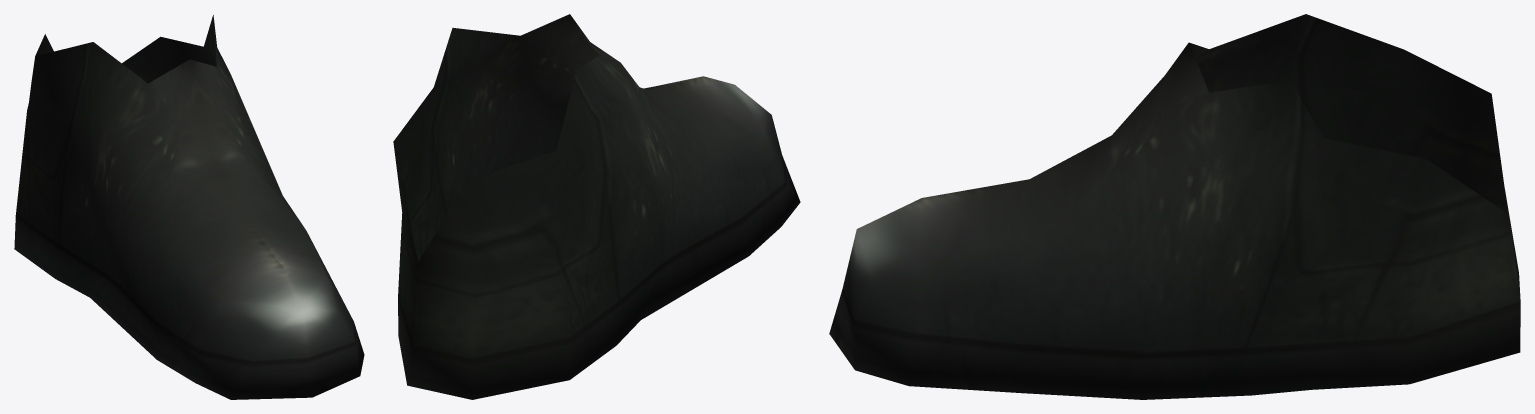
File: gordon_pie_izq.obj
3 views of the same model, side by side, from view 1: azimuth 30°, elevation 25°; view 2: azimuth 150°, elevation 25°; view 3: azimuth 270°, elevation 25° (orthographic). The views are drawn at different scales.
Visible parts, largest first — view 1: gordon_pie_izq; view 2: gordon_pie_izq; view 3: gordon_pie_izq.
Boxes of the visible parts, box(x1,y1,x2,y2) form: gordon_pie_izq: box(14, 15, 364, 399); gordon_pie_izq: box(393, 14, 800, 399); gordon_pie_izq: box(829, 14, 1520, 399).
Size of the model in its own units: 0.0941 by 0.116 by 0.2386.
